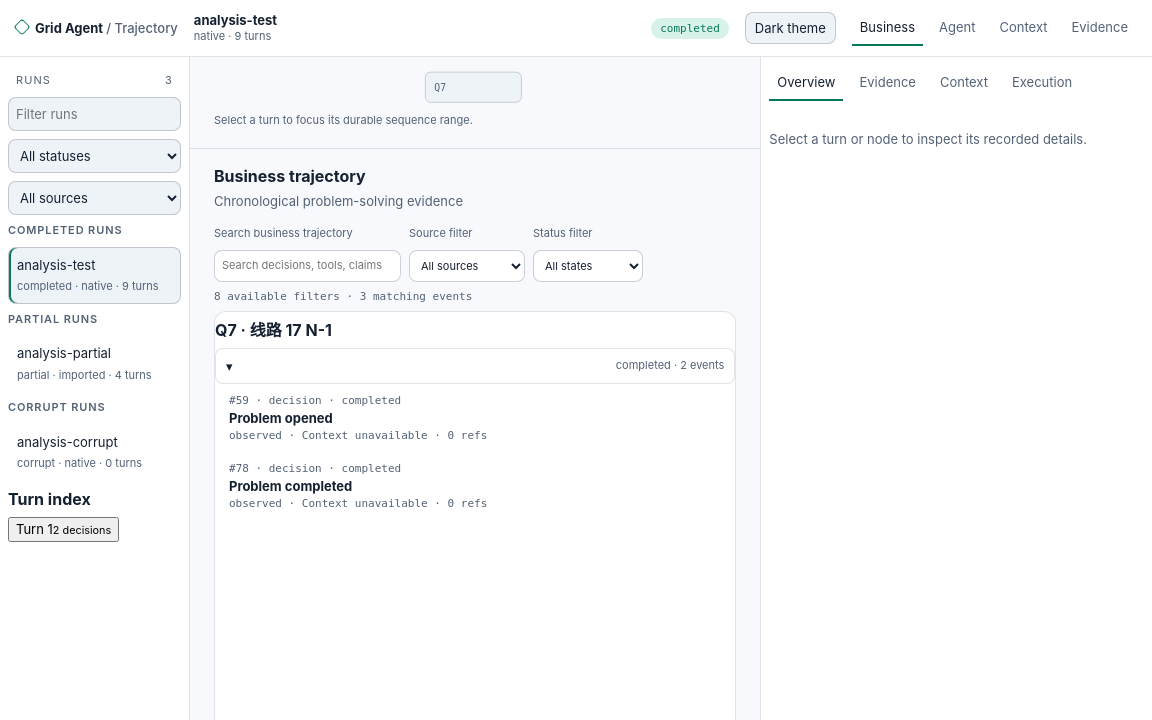
Test: App shell › persists a selected trajectory item in the same-origin deep link
Click the button named "Q7 · 线路 17 N-1 overview segment".
click(475, 89)  # box [222,73,728,105]
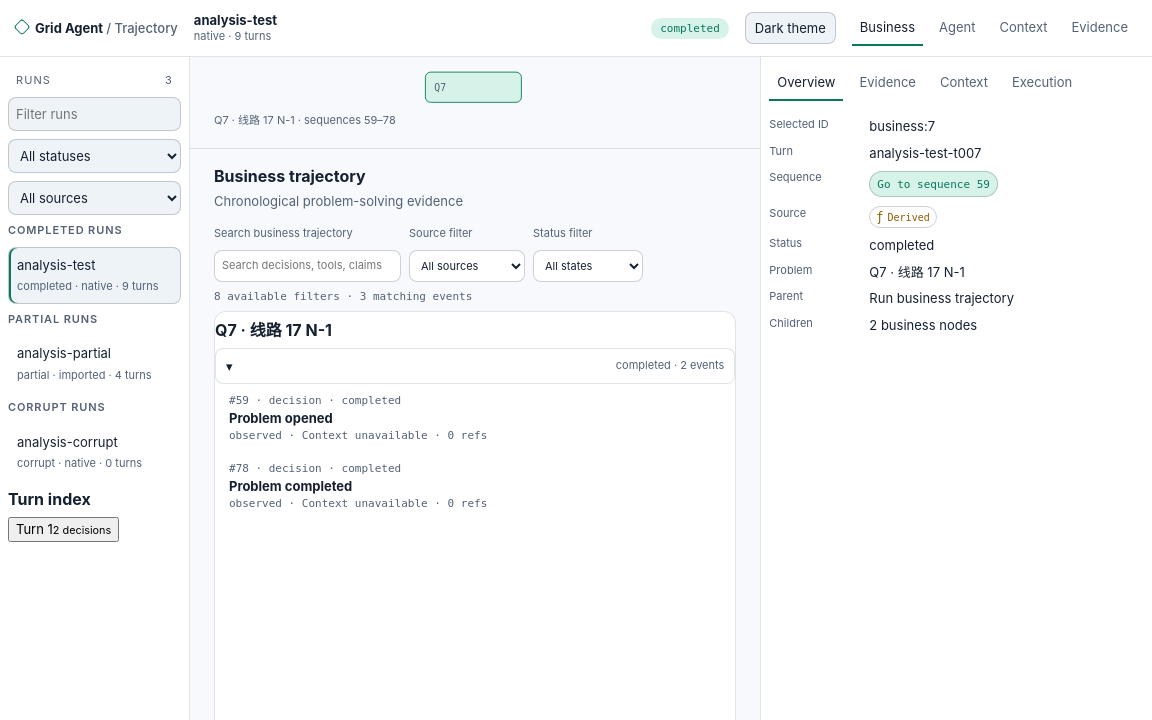
Result: the text "analysis-test-t007" is shown at [869,145,981,161]
